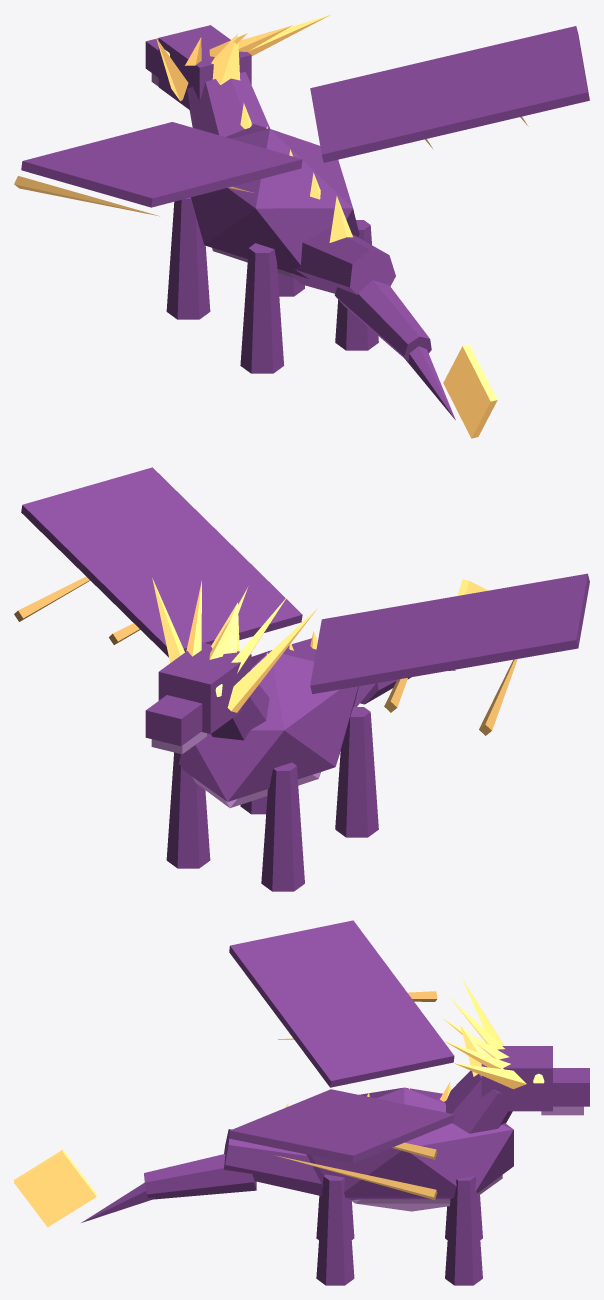
The model's file is dragon_lord.glb.
3 views of the same model, one above another, from view 1: azimuth 30°, elevation 25°; view 2: azimuth 150°, elevation 25°; view 3: azimuth 270°, elevation 25° (orthographic). The views are drawn at different scales.
Visible parts, largest first — view 1: DragonWingR, DragonWingL, DragonBody, DragonLegBL, DragonTailA, DragonLegFL, DragonTailB, DragonNeck, DragonHead, DragonTailFin, DragonLegBR, DragonTailC (+5 smaller); view 2: DragonWingR, DragonWingL, DragonBody, DragonLegFL, DragonHead, DragonLegBL, DragonLegFR, DragonSnout, DragonHorn0, DragonNeck, DragonHorn4, DragonWingStrutR1 (+4 smaller); view 3: DragonWingL, DragonBody, DragonWingR, DragonTailFin, DragonLegBR, DragonTailA, DragonTailB, DragonLegFR, DragonHead, DragonNeck, DragonSnout, DragonBelly (+4 smaller).
Boxes of the visible parts, <box> form: DragonWingR: <box>310,26,589,162</box>; DragonWingL: <box>21,122,302,207</box>; DragonBody: <box>190,124,359,278</box>; DragonLegBL: <box>240,243,284,373</box>; DragonTailA: <box>290,228,395,294</box>; DragonLegFL: <box>166,197,210,319</box>; DragonTailB: <box>334,280,431,361</box>; DragonNeck: <box>187,72,270,136</box>; DragonHead: <box>158,25,251,110</box>; DragonTailFin: <box>443,344,497,438</box>; DragonLegBR: <box>335,220,378,350</box>; DragonTailC: <box>402,318,455,420</box>; DragonWingR: <box>21,467,302,657</box>; DragonWingL: <box>310,573,589,694</box>; DragonBody: <box>178,638,358,801</box>; DragonLegFL: <box>261,762,304,891</box>; DragonHead: <box>158,642,251,733</box>; DragonLegBL: <box>335,707,378,837</box>; DragonLegFR: <box>166,752,210,868</box>; DragonSnout: <box>145,695,202,746</box>; DragonHorn0: <box>227,607,318,712</box>; DragonNeck: <box>210,685,269,740</box>; DragonHorn4: <box>152,578,184,662</box>; DragonWingStrutR1: <box>14,576,89,621</box>; DragonWingL: <box>229,920,454,1087</box>; DragonBody: <box>306,1087,513,1199</box>; DragonWingR: <box>229,1089,454,1163</box>; DragonTailFin: <box>14,1150,96,1227</box>; DragonLegBR: <box>316,1174,354,1285</box>; DragonTailA: <box>223,1129,322,1196</box>; DragonTailB: <box>144,1154,256,1199</box>; DragonLegFR: <box>445,1176,482,1285</box>; DragonHead: <box>481,1046,552,1111</box>; DragonNeck: <box>444,1070,512,1133</box>; DragonSnout: <box>553,1068,589,1106</box>; DragonBelly: <box>350,1175,502,1211</box>.
Bounding box in the file's own units: 7.29 × 3.55 × 7.5.
